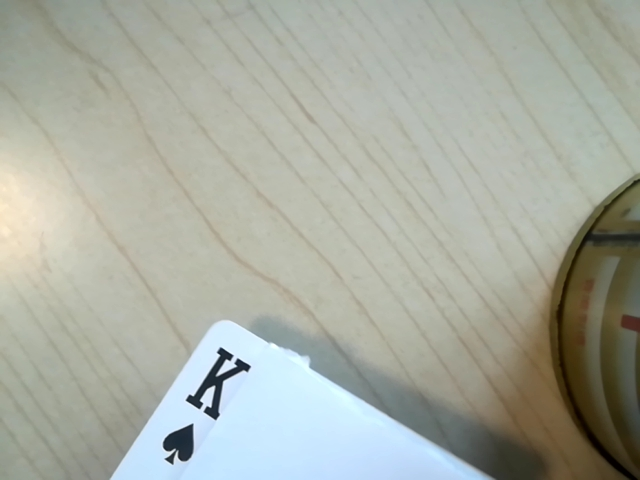ht k: (143, 336, 253, 478)
